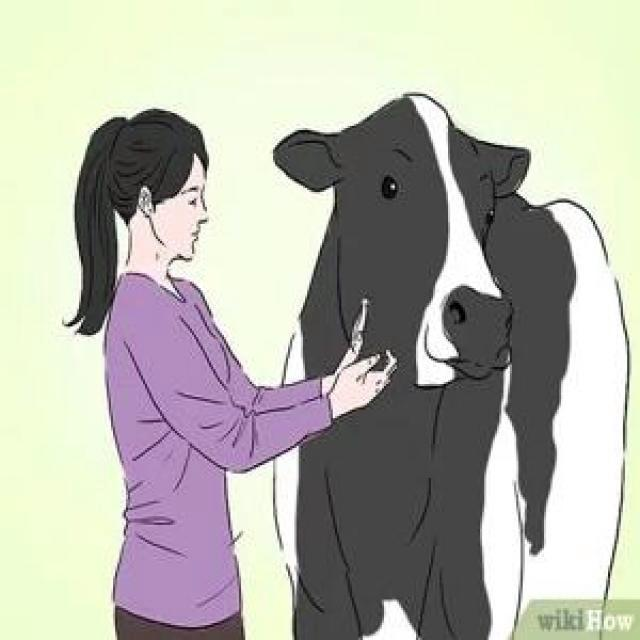cow: (274, 94, 629, 640)
